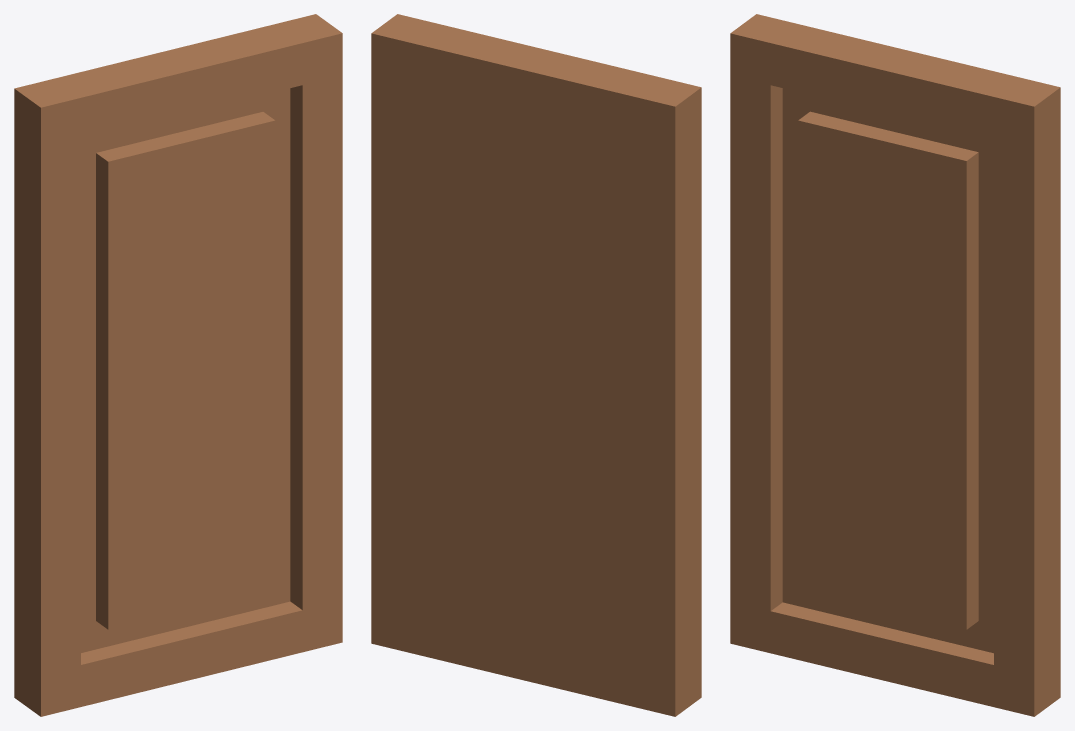
The model's file is door.fbx.
The picture shows the model from 3 angles, left to right: view 1: azimuth 30°, elevation 25°; view 2: azimuth 150°, elevation 25°; view 3: azimuth 330°, elevation 25°; orthographic projection.
Visible parts, largest first — view 1: Cube.002; view 2: Cube.002; view 3: Cube.002.
Boxes of the visible parts, x1=… form: Cube.002: x1=14, y1=14, x2=342, y2=716; Cube.002: x1=371, y1=14, x2=701, y2=716; Cube.002: x1=730, y1=14, x2=1060, y2=716.
Bounding box in the file's own units: 132 × 254 × 20.63.
